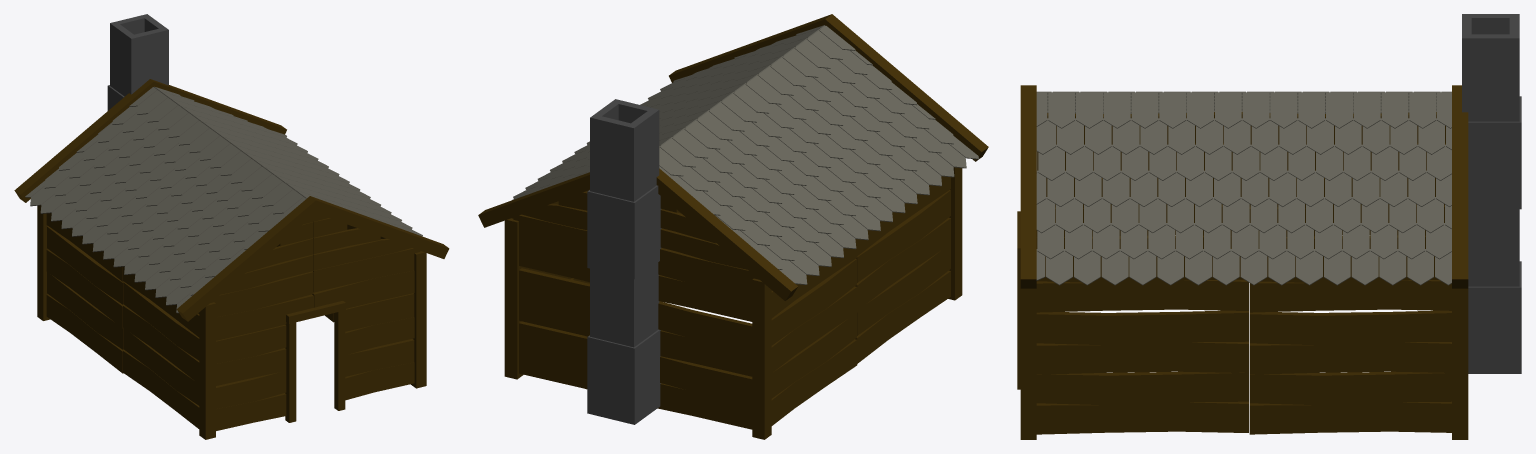
The model's file is Wood House destruction.fbx.
3 renders of one model, left to right at view 1: azimuth 30°, elevation 25°; view 2: azimuth 150°, elevation 25°; view 3: azimuth 270°, elevation 25°, orthographic. The views are drawn at different scales.
Parts seen in each view (by area): view 1: Cube.009, Board.035, Board.034, Board.033, Board.032, Board.030, Board.036, Board.038, Board.029, Cube.014, Cube.012, Board.101 (+45 smaller); view 2: Cube.009, Cube.011, Cube.008, Cube.010, Board.105, Board.035, Board.104, Board.090, Board.032, Board.038, Board.029, Board.034 (+44 smaller); view 3: Board.051, Board.054, Board.052, Board.056, Board.049, Board.053, Cube.009, Board.048, Board.055, Board.050, Board.047, Cube.008 (+116 smaller).
Part boxes in pixels (x1=…): Cube.009: x1=110, y1=14, x2=168, y2=96; Board.035: x1=123, y1=282, x2=199, y2=360; Board.034: x1=47, y1=226, x2=123, y2=304; Board.033: x1=47, y1=272, x2=123, y2=349; Board.032: x1=123, y1=328, x2=199, y2=405; Board.030: x1=46, y1=294, x2=124, y2=373; Board.036: x1=46, y1=249, x2=124, y2=328; Board.038: x1=123, y1=305, x2=199, y2=383; Board.029: x1=123, y1=350, x2=199, y2=428; Cube.014: x1=177, y1=252, x2=251, y2=321; Cube.012: x1=243, y1=196, x2=315, y2=267; Board.101: x1=313, y1=238, x2=411, y2=270; Cube.009: x1=590, y1=99, x2=659, y2=201; Cube.011: x1=587, y1=329, x2=660, y2=424; Cube.008: x1=587, y1=185, x2=661, y2=279; Cube.010: x1=590, y1=262, x2=659, y2=347; Board.105: x1=658, y1=301, x2=752, y2=350; Board.035: x1=856, y1=190, x2=950, y2=282; Board.104: x1=660, y1=356, x2=752, y2=403; Board.090: x1=658, y1=248, x2=759, y2=295; Board.032: x1=857, y1=244, x2=950, y2=335; Board.038: x1=855, y1=217, x2=950, y2=310; Board.029: x1=855, y1=270, x2=950, y2=363; Board.034: x1=771, y1=259, x2=856, y2=345; Board.051: x1=1036, y1=310, x2=1248, y2=345; Board.054: x1=1036, y1=371, x2=1248, y2=405; Board.052: x1=1249, y1=310, x2=1451, y2=345; Board.056: x1=1036, y1=401, x2=1248, y2=434; Board.049: x1=1036, y1=341, x2=1248, y2=374; Board.053: x1=1249, y1=371, x2=1451, y2=405; Cube.009: x1=1462, y1=14, x2=1519, y2=121; Board.048: x1=1036, y1=279, x2=1248, y2=312; Board.055: x1=1249, y1=401, x2=1451, y2=434; Board.050: x1=1249, y1=342, x2=1451, y2=374; Board.047: x1=1249, y1=280, x2=1451, y2=312; Cube.008: x1=1468, y1=96, x2=1521, y2=209.
Bounding box in the file's own units: 7.6 × 7.06 × 9.35.
